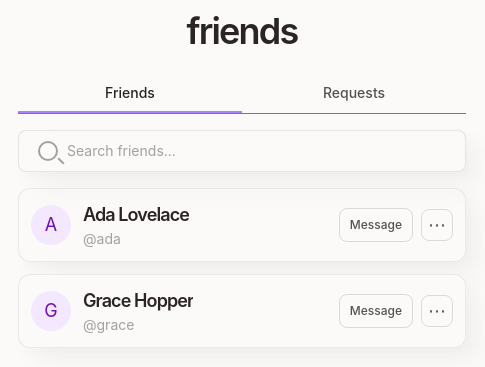
Test: friends page › uses equally sized tabs and filters the already loaded friend list locally
The image size is (485, 367).
Expected: the text "Ada Lovelace" is shown, [83,201,189,229]
Type "grace" into the field labelled "Search friends".
click(242, 151); type("grace")  # box [18,130,466,172]
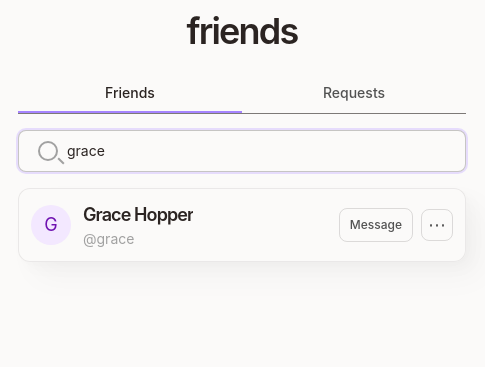
Expected: the text "Grace Hopper" is shown, [83,201,193,229]
Expected: the link "Ada Lovelace" is gone
